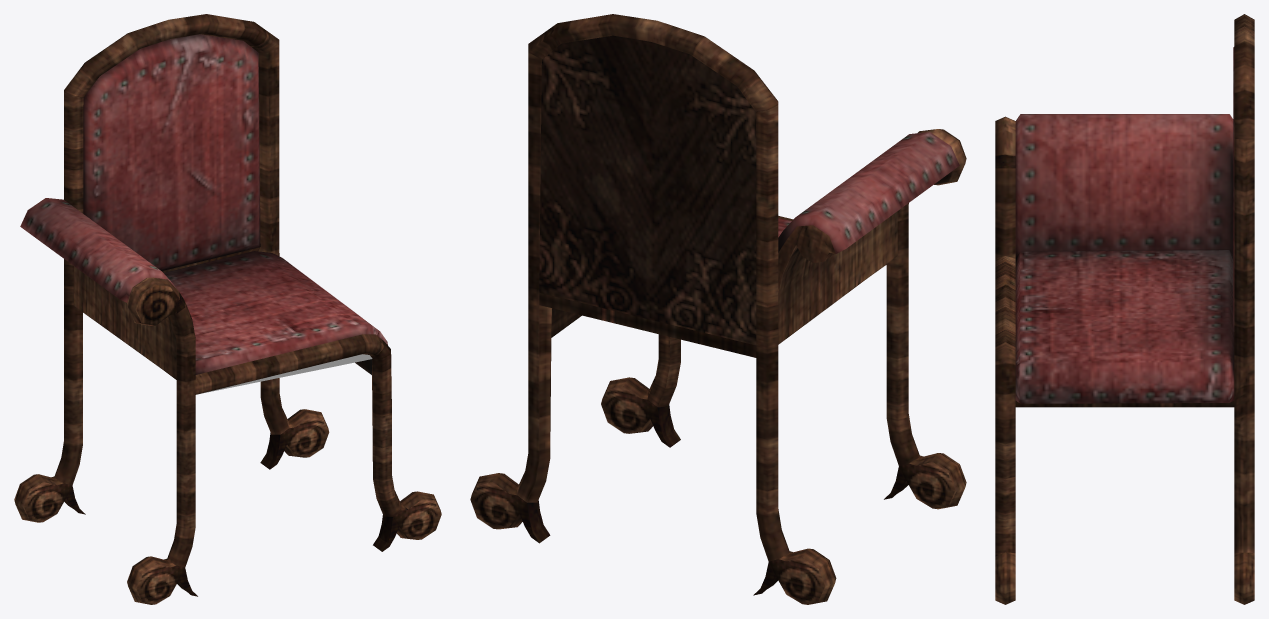
Rendered from M_Home_Garden_Chair_08.fbx.
3 views of the same model, side by side, from view 1: azimuth 30°, elevation 25°; view 2: azimuth 150°, elevation 25°; view 3: azimuth 270°, elevation 25° (orthographic). The views are drawn at different scales.
Visible parts, largest first — view 1: M_Home_Garden_Chair_08; view 2: M_Home_Garden_Chair_08; view 3: M_Home_Garden_Chair_08.
Part boxes in pixels (x1,y1,x2,y2): M_Home_Garden_Chair_08: (14, 14, 441, 604); M_Home_Garden_Chair_08: (470, 14, 966, 604); M_Home_Garden_Chair_08: (995, 14, 1254, 604).
Bounding box in the file's own units: 85.35 × 122 × 57.27.
